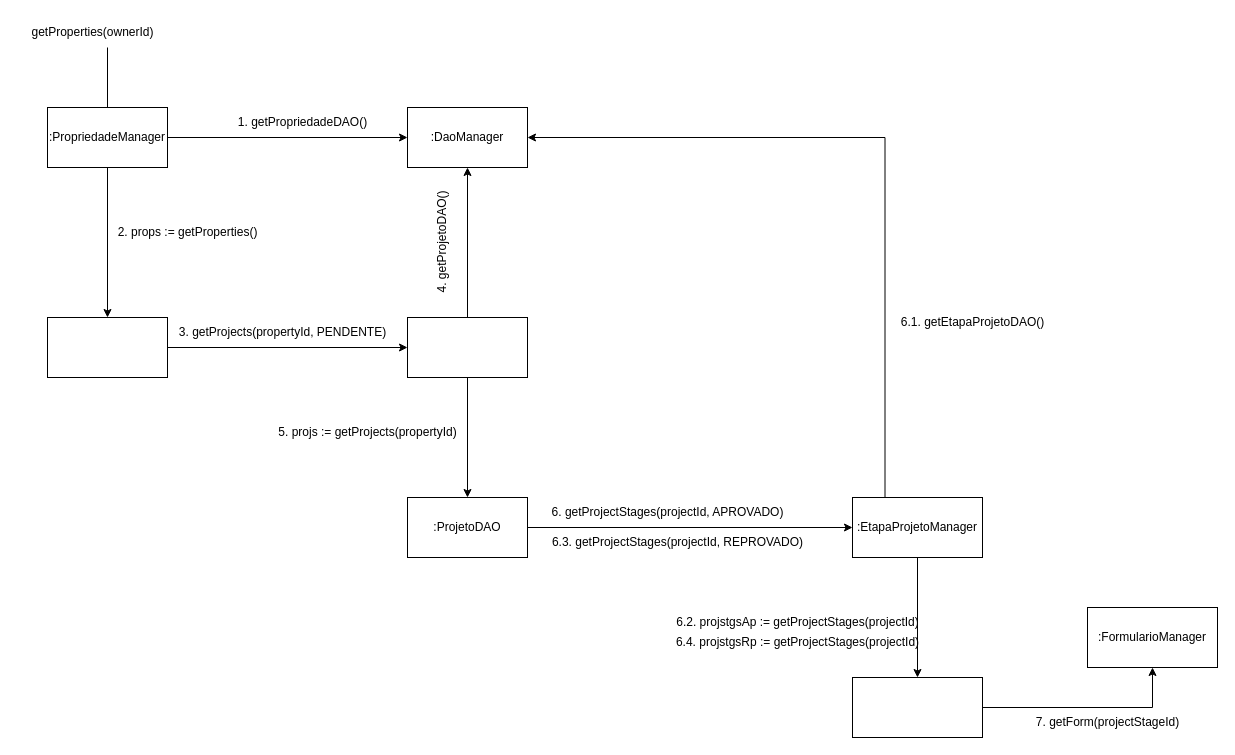
Some shapes in this 1235 by 755 pixel diagram are drawn without their labels. The centre of each missing label's shape, as x and y in pixels:
":EtapaProjetoDAO" belongs at point 917,707.
":ProjetoManager" belongs at point 467,347.
":PropriedadeDAO" belongs at point 107,347.
